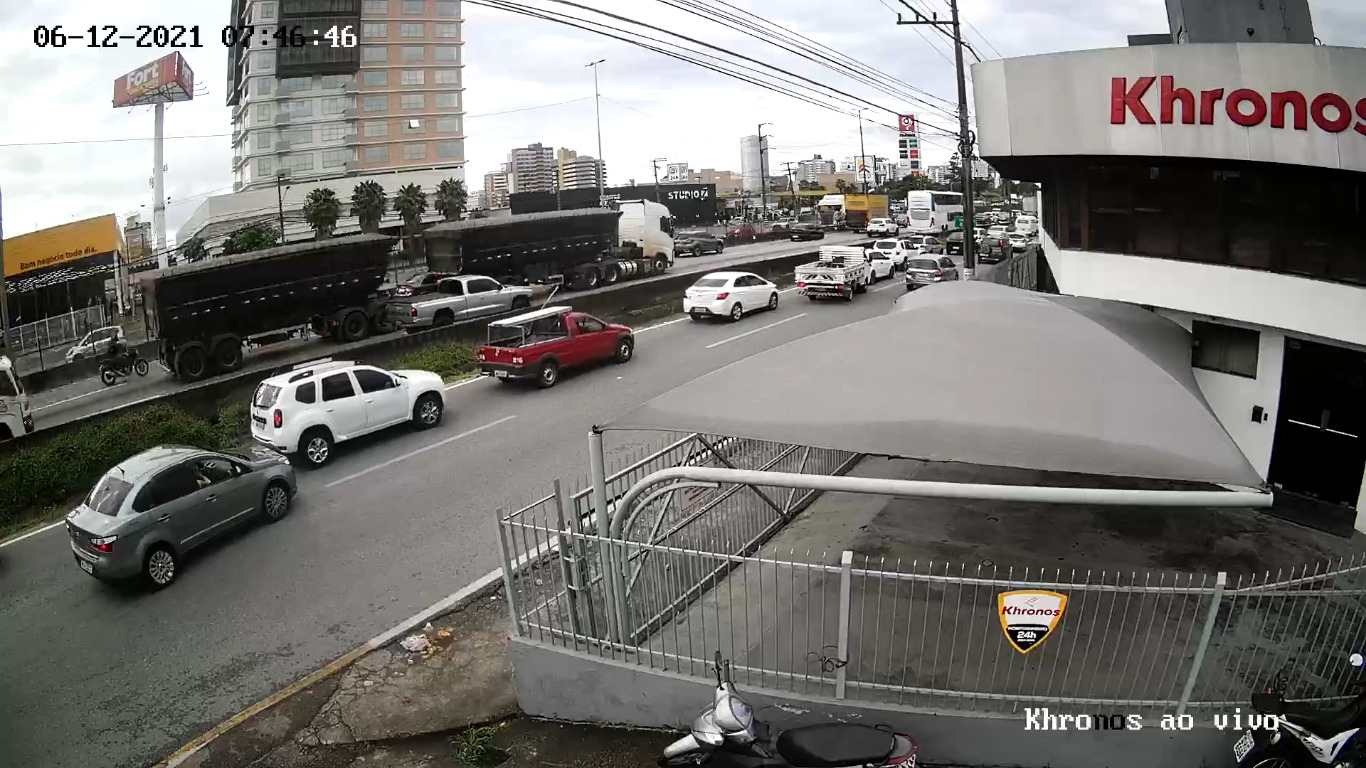car: (64, 442, 297, 591), (248, 361, 446, 467), (477, 305, 635, 386), (682, 269, 779, 324)
